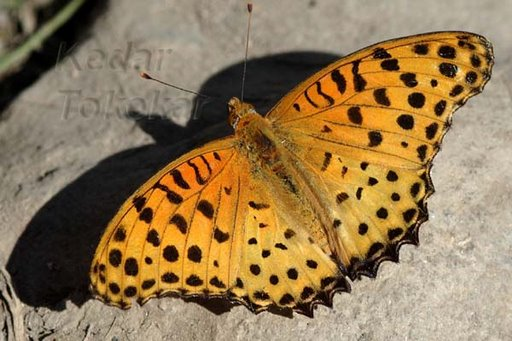Argyreus hyperbius: (81, 3, 492, 310)
butterfly: (83, 5, 494, 312)
